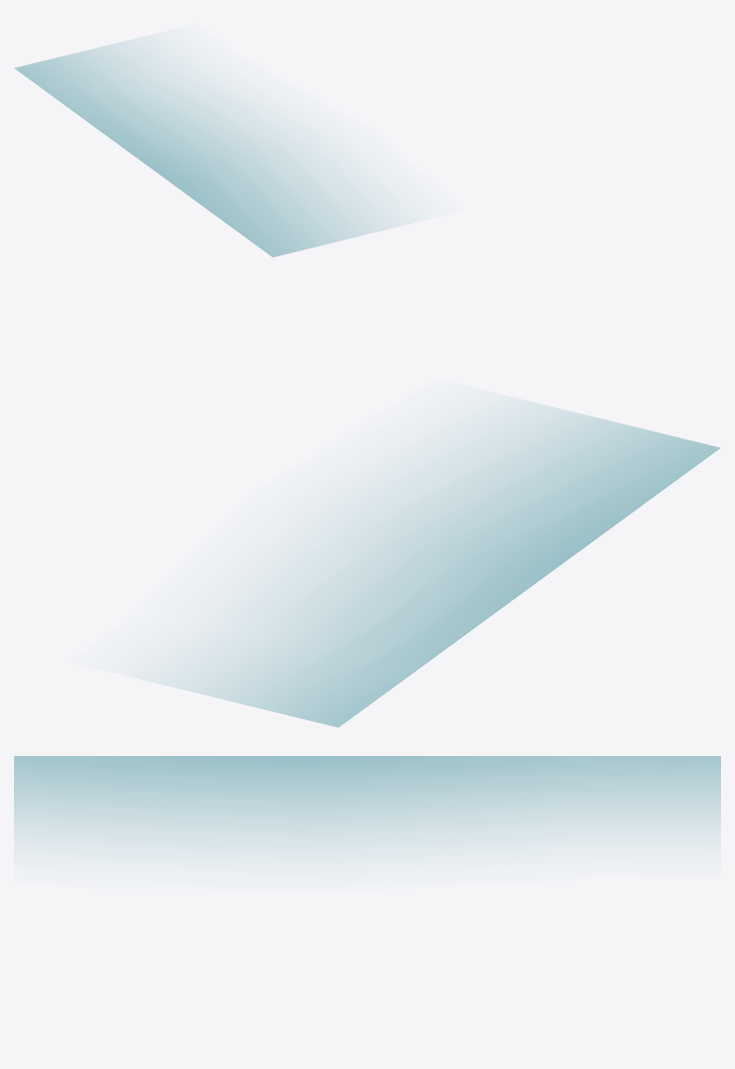
3 renders of one model, top to bottom at view 1: azimuth 30°, elevation 25°; view 2: azimuth 150°, elevation 25°; view 3: azimuth 270°, elevation 25°, orthographic. The views are drawn at different scales.
Parts seen in each view (by area): view 1: city; view 2: city; view 3: city.
Boxes of the visible parts, <box> form: city: <box>14,37,407,257</box>; city: <box>147,399,720,727</box>; city: <box>14,756,720,858</box>.
Bounding box in the file's own units: 500 × 0 × 500.
